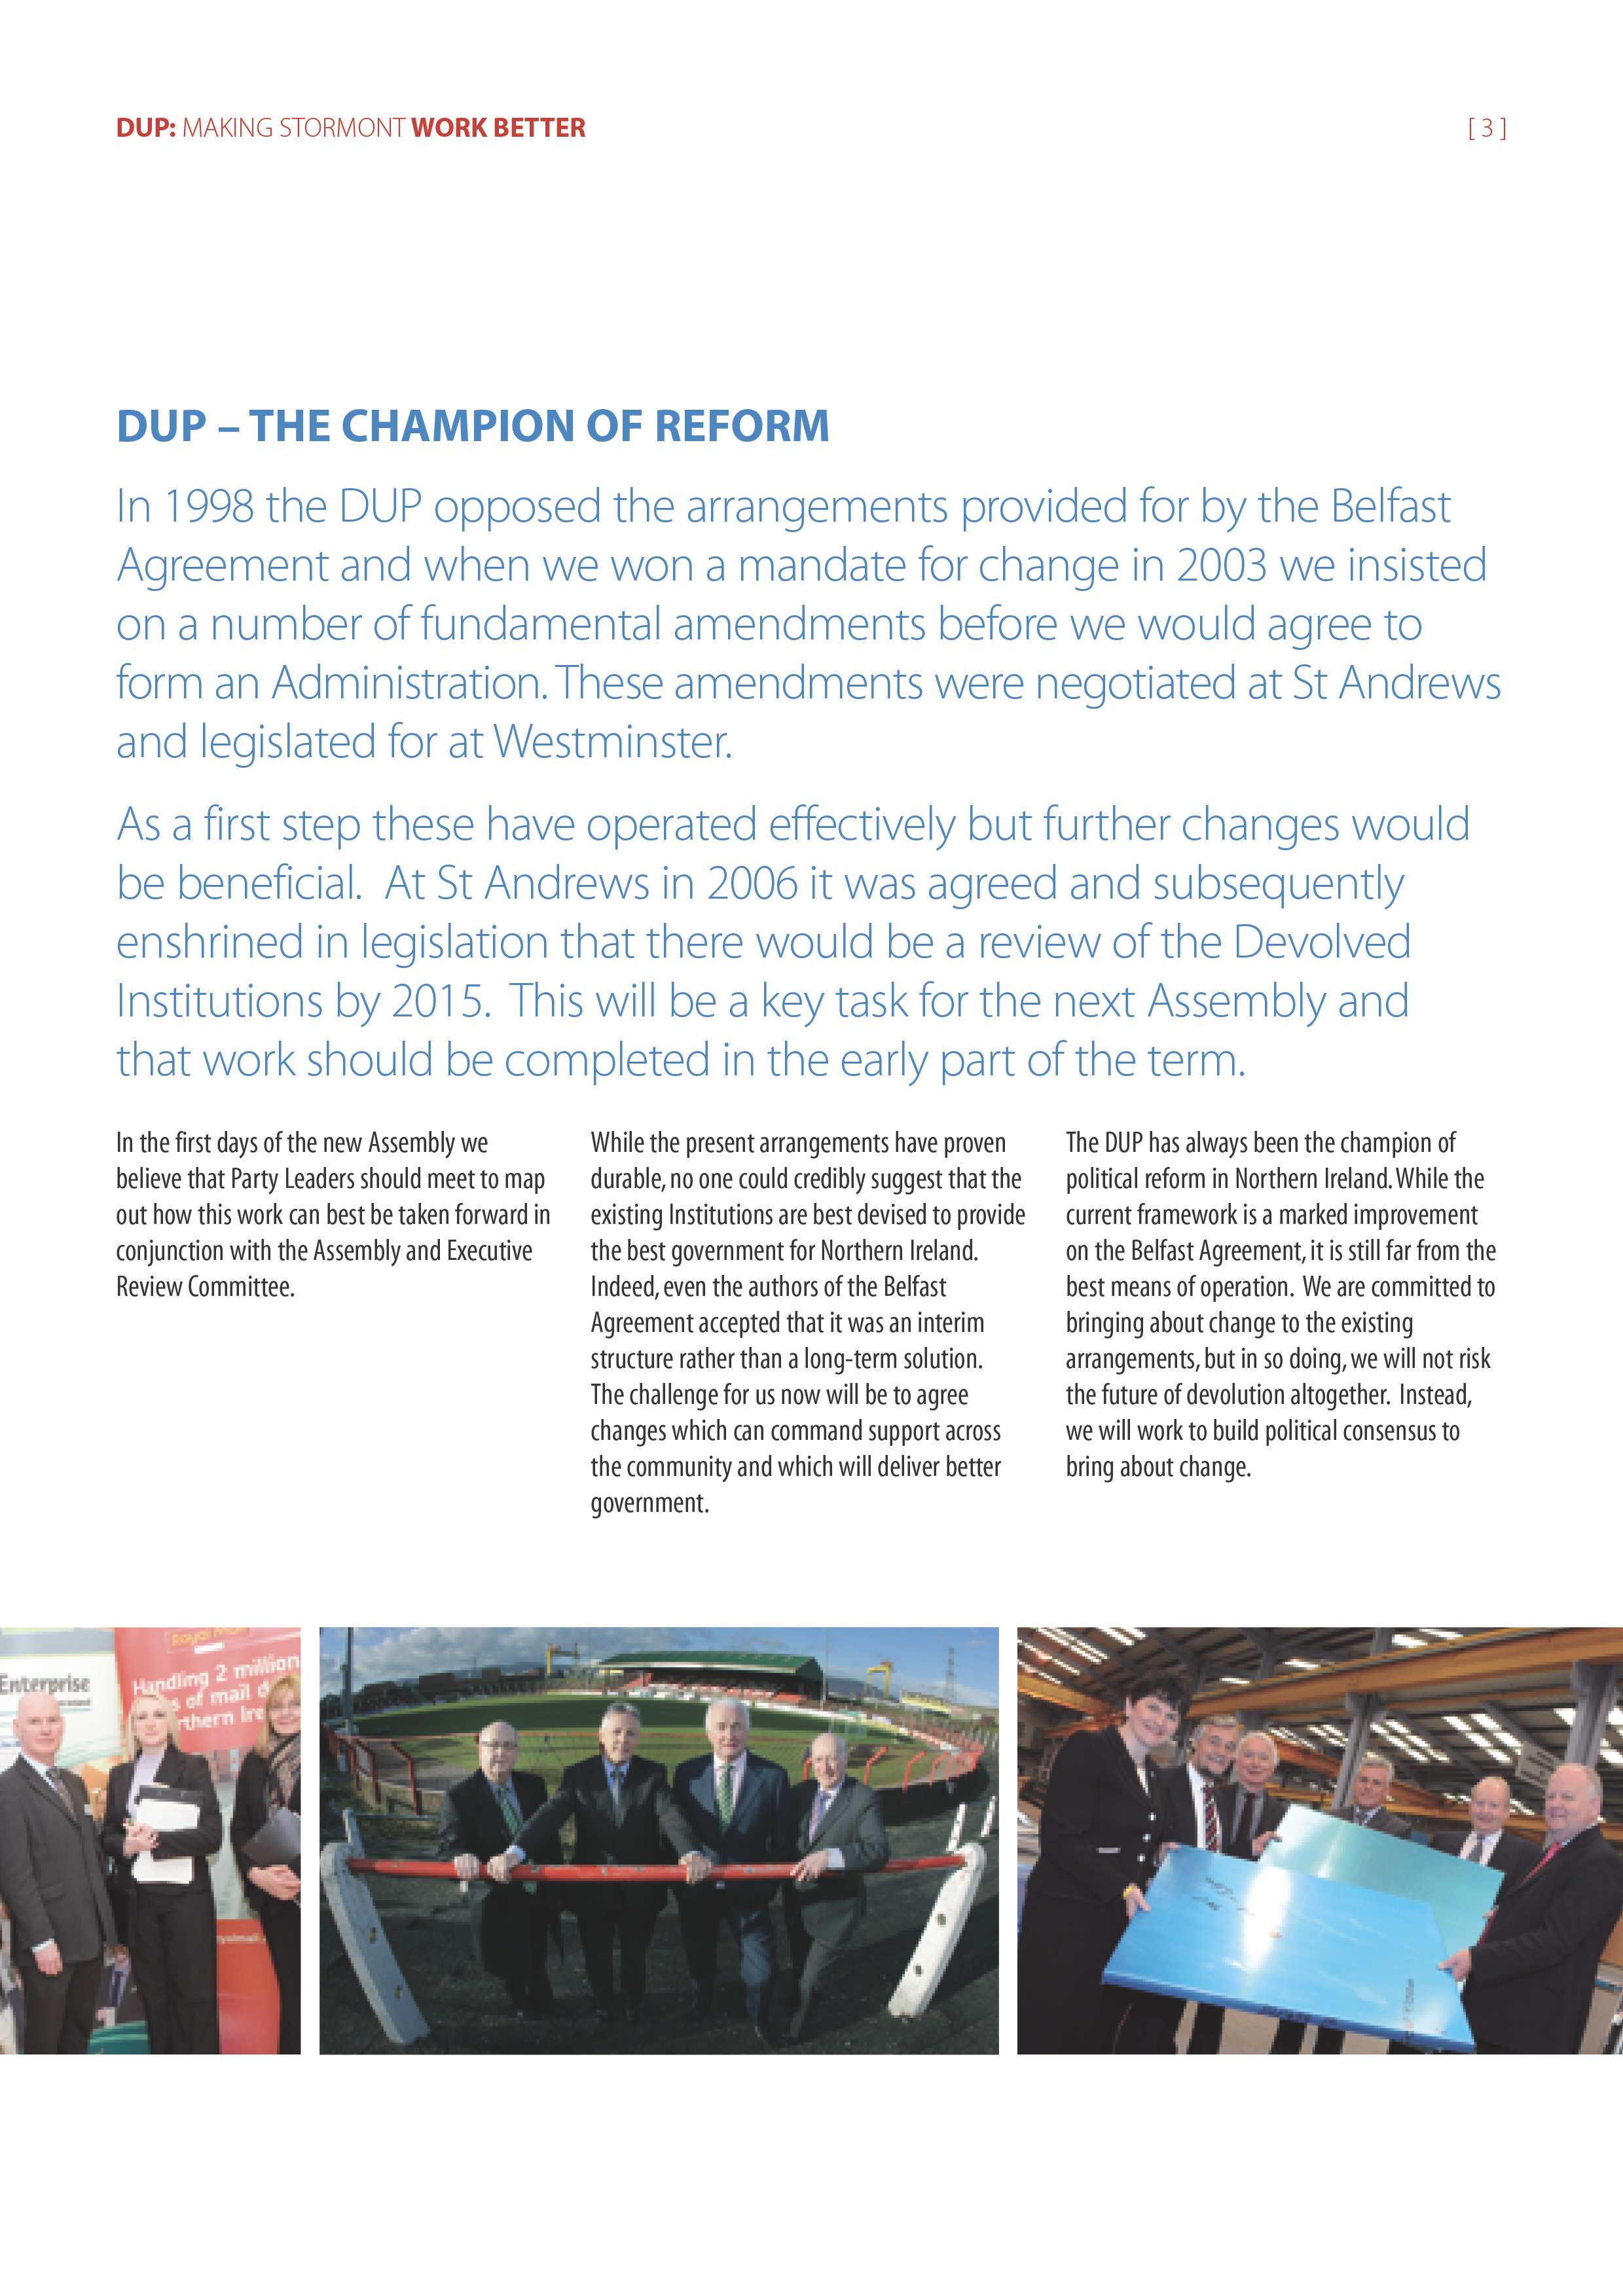figure: (11, 1638, 1614, 2043)
section: (102, 370, 843, 465)
text: (123, 486, 1516, 788), (133, 807, 1495, 1088), (581, 1116, 1043, 1527), (1071, 1102, 1523, 1518), (91, 1116, 557, 1313)
